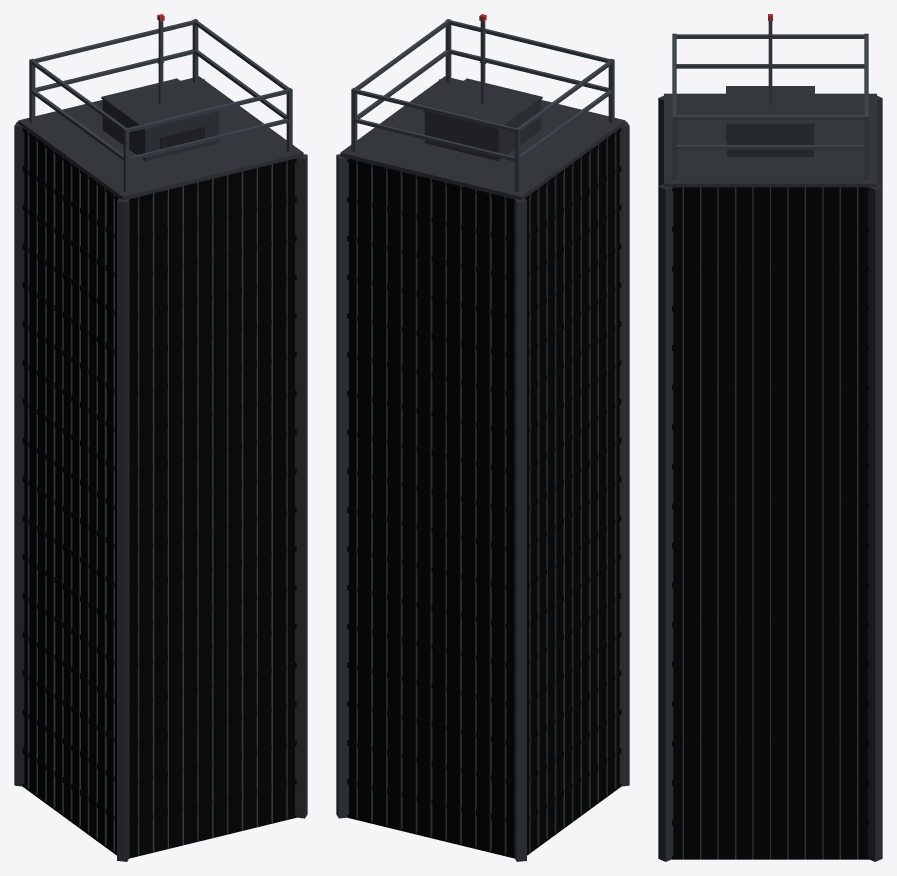
File: env_city_glass.fbx
The picture shows the model from 3 angles, left to right: view 1: azimuth 30°, elevation 25°; view 2: azimuth 150°, elevation 25°; view 3: azimuth 270°, elevation 25°; orthographic projection.
Parts seen in each view (by area): view 1: env_city_glass; view 2: env_city_glass; view 3: env_city_glass.
Boxes of the visible parts, x1,y1,x2,y2 form: env_city_glass: [14, 14, 307, 861]; env_city_glass: [336, 14, 629, 861]; env_city_glass: [658, 14, 882, 861].
Size of the model in its own units: 5139 by 20220 by 5139.
